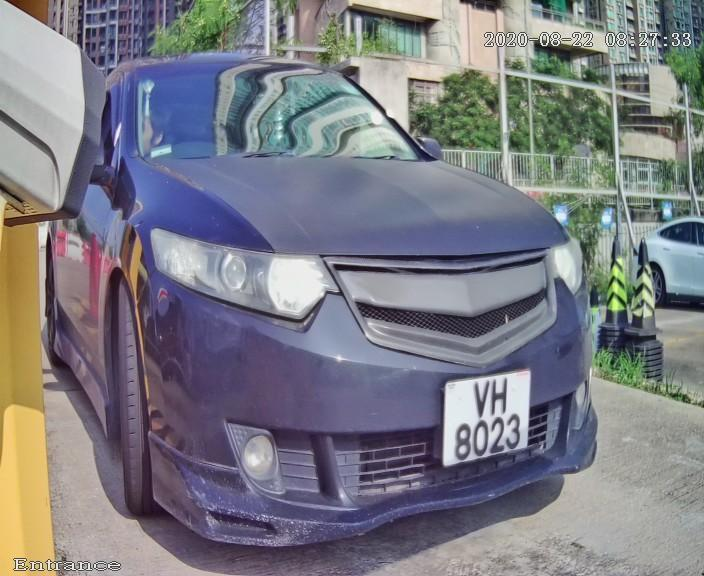License Plate: (437, 358, 538, 476)
